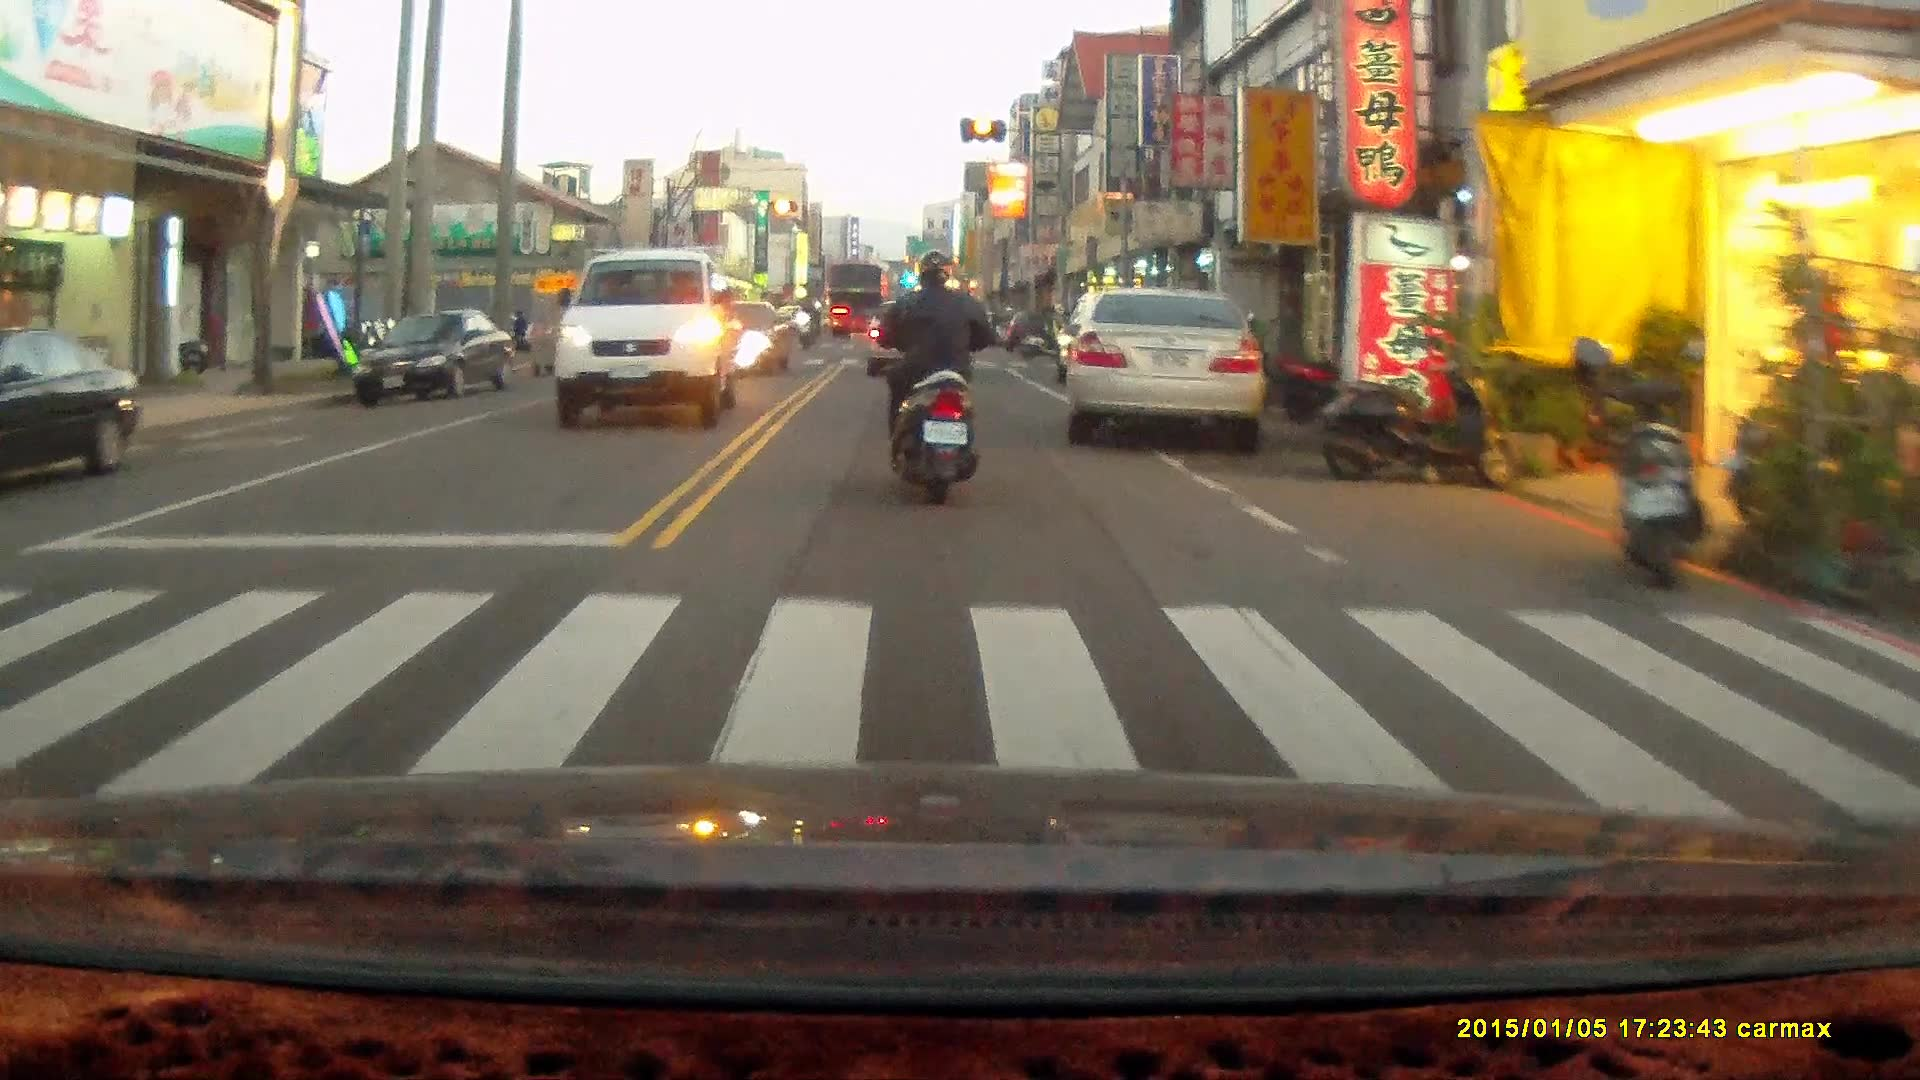rider: (872, 247, 993, 508)
vehicle: (556, 239, 737, 427), (1065, 284, 1270, 448), (1, 321, 147, 496), (354, 304, 516, 404), (864, 291, 965, 370)
